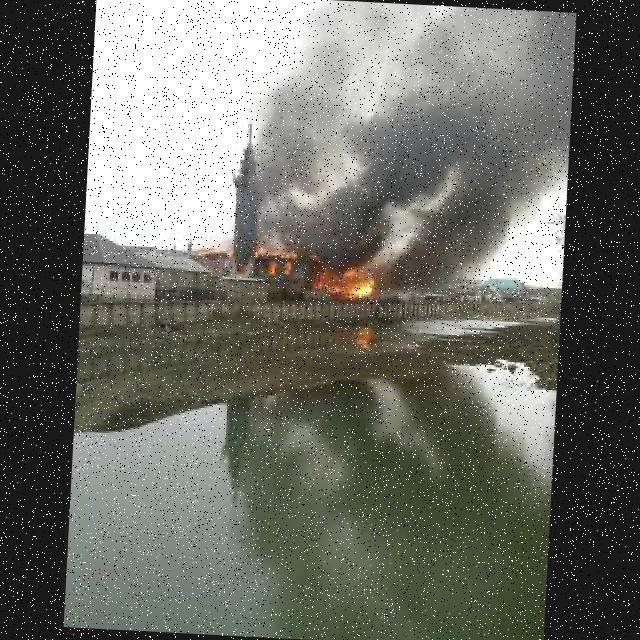Fire: (191, 221, 309, 269), (320, 261, 391, 316)
Smoke: (398, 109, 567, 295), (297, 89, 456, 271), (248, 9, 378, 213)
